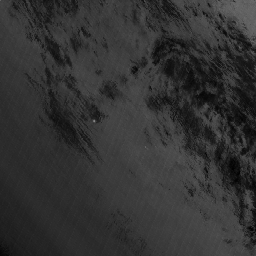Target: (91, 118, 96, 125)
